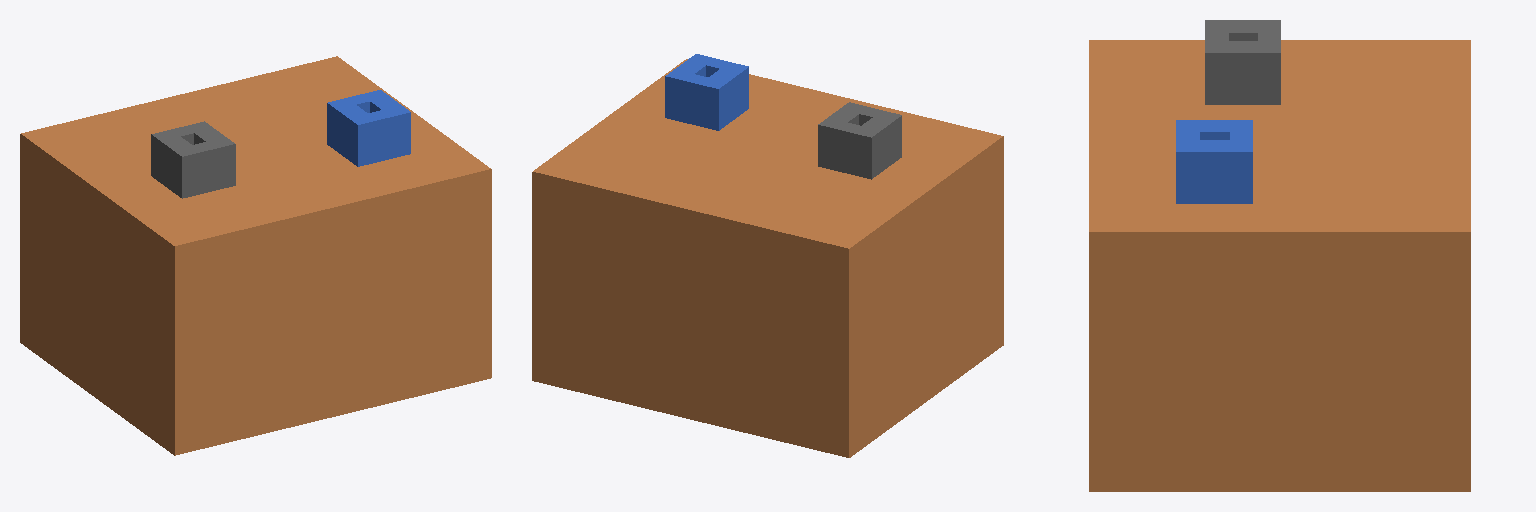
The robot description file, URDF, robot "peg_in_hole_fixtured_scene_0039_peg0004_tol00":
<?xml version="1.0"?>
<robot name="peg_in_hole_fixtured_scene_0039_peg0004_tol00">
  <material name="wood"><color rgba="0.82 0.56 0.35 1.0"/></material>
  <material name="start_fix"><color rgba="0.30 0.50 0.85 1.0"/></material>
  <material name="goal_fix"><color rgba="0.4706 0.4706 0.4706 1.0"/></material>
  <link name="box">
    <visual>
      <origin xyz="0.000000 0.000000 0.000000" rpy="0 0 0"/>
      <geometry><box size="0.475000 0.400000 0.300000"/></geometry>
      <material name="wood"/>
    </visual>
    <collision>
      <origin xyz="0.000000 0.000000 0.000000" rpy="0 0 0"/>
      <geometry><box size="0.475000 0.400000 0.300000"/></geometry>
    </collision>
    <visual>
      <origin xyz="0.130258 -0.068289 0.155000" rpy="0 0 0"/>
      <geometry><box size="0.080000 0.080000 0.010000"/></geometry>
      <material name="start_fix"/>
    </visual>
    <collision>
      <origin xyz="0.130258 -0.068289 0.155000" rpy="0 0 0"/>
      <geometry><box size="0.080000 0.080000 0.010000"/></geometry>
    </collision>
    <visual>
      <origin xyz="0.155508 -0.068289 0.185000" rpy="0 0 0"/>
      <geometry><box size="0.029500 0.080000 0.050000"/></geometry>
      <material name="start_fix"/>
    </visual>
    <collision>
      <origin xyz="0.155508 -0.068289 0.185000" rpy="0 0 0"/>
      <geometry><box size="0.029500 0.080000 0.050000"/></geometry>
    </collision>
    <visual>
      <origin xyz="0.105008 -0.068289 0.185000" rpy="0 0 0"/>
      <geometry><box size="0.029500 0.080000 0.050000"/></geometry>
      <material name="start_fix"/>
    </visual>
    <collision>
      <origin xyz="0.105008 -0.068289 0.185000" rpy="0 0 0"/>
      <geometry><box size="0.029500 0.080000 0.050000"/></geometry>
    </collision>
    <visual>
      <origin xyz="0.130258 -0.040539 0.185000" rpy="0 0 0"/>
      <geometry><box size="0.021000 0.024500 0.050000"/></geometry>
      <material name="start_fix"/>
    </visual>
    <collision>
      <origin xyz="0.130258 -0.040539 0.185000" rpy="0 0 0"/>
      <geometry><box size="0.021000 0.024500 0.050000"/></geometry>
    </collision>
    <visual>
      <origin xyz="0.130258 -0.096039 0.185000" rpy="0 0 0"/>
      <geometry><box size="0.021000 0.024500 0.050000"/></geometry>
      <material name="start_fix"/>
    </visual>
    <collision>
      <origin xyz="0.130258 -0.096039 0.185000" rpy="0 0 0"/>
      <geometry><box size="0.021000 0.024500 0.050000"/></geometry>
    </collision>
    <visual>
      <origin xyz="-0.116063 -0.038554 0.155000" rpy="0 0 0"/>
      <geometry><box size="0.080000 0.080000 0.010000"/></geometry>
      <material name="goal_fix"/>
    </visual>
    <collision>
      <origin xyz="-0.116063 -0.038554 0.155000" rpy="0 0 0"/>
      <geometry><box size="0.080000 0.080000 0.010000"/></geometry>
    </collision>
    <visual>
      <origin xyz="-0.090964 -0.038554 0.185000" rpy="0 0 0"/>
      <geometry><box size="0.029802 0.080000 0.050000"/></geometry>
      <material name="goal_fix"/>
    </visual>
    <collision>
      <origin xyz="-0.090964 -0.038554 0.185000" rpy="0 0 0"/>
      <geometry><box size="0.029802 0.080000 0.050000"/></geometry>
    </collision>
    <visual>
      <origin xyz="-0.141162 -0.038554 0.185000" rpy="0 0 0"/>
      <geometry><box size="0.029802 0.080000 0.050000"/></geometry>
      <material name="goal_fix"/>
    </visual>
    <collision>
      <origin xyz="-0.141162 -0.038554 0.185000" rpy="0 0 0"/>
      <geometry><box size="0.029802 0.080000 0.050000"/></geometry>
    </collision>
    <visual>
      <origin xyz="-0.116063 -0.010955 0.185000" rpy="0 0 0"/>
      <geometry><box size="0.020397 0.024802 0.050000"/></geometry>
      <material name="goal_fix"/>
    </visual>
    <collision>
      <origin xyz="-0.116063 -0.010955 0.185000" rpy="0 0 0"/>
      <geometry><box size="0.020397 0.024802 0.050000"/></geometry>
    </collision>
    <visual>
      <origin xyz="-0.116063 -0.066153 0.185000" rpy="0 0 0"/>
      <geometry><box size="0.020397 0.024802 0.050000"/></geometry>
      <material name="goal_fix"/>
    </visual>
    <collision>
      <origin xyz="-0.116063 -0.066153 0.185000" rpy="0 0 0"/>
      <geometry><box size="0.020397 0.024802 0.050000"/></geometry>
    </collision>
    <inertial>
      <mass value="500"/>
      <friction value="1.0"/>
      <inertia ixx="1000.0" ixy="0.0" ixz="0.0" iyy="1000.0" iyz="0.0" izz="1000.0"/>
    </inertial>
  </link>
</robot>

--- What the picture shows (computed from the rendered views, not written in the file) ---
3 views of the same robot in one strip: view 1: azimuth 30°, elevation 25°; view 2: azimuth 150°, elevation 25°; view 3: azimuth 270°, elevation 25° (orthographic).
Model peg_in_hole_fixtured_scene_0039_peg0004_tol00 with 1 links and 0 joints (none), rooted at box, posed every joint at zero.
Visible links, largest first — view 1: box; view 2: box; view 3: box.
Boxes of the visible links, x1=… form: box: x1=20, y1=56, x2=491, y2=455; box: x1=532, y1=54, x2=1003, y2=457; box: x1=1089, y1=20, x2=1470, y2=491.
Bounding box of the posed robot: 0.475 × 0.4 × 0.36 m (x, y, z).
Geometry: primitives only (box / cylinder / sphere), no mesh files.
